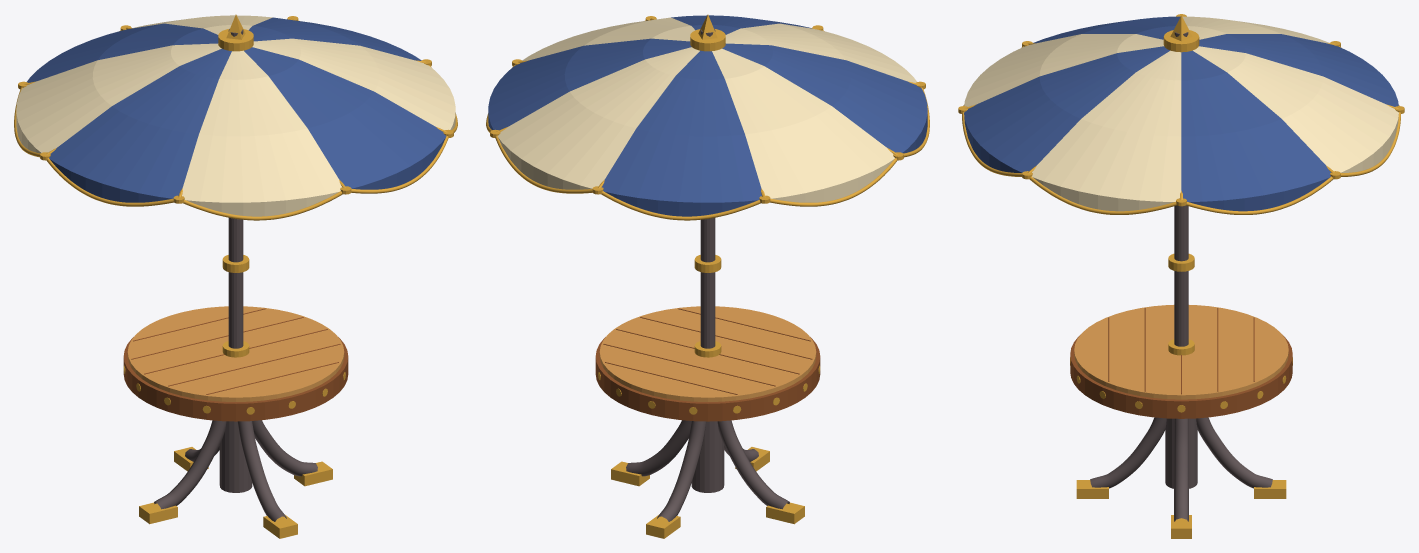
The model's file is cafe-parasol-table.glb.
3 views of the same model, side by side, from view 1: azimuth 30°, elevation 25°; view 2: azimuth 150°, elevation 25°; view 3: azimuth 270°, elevation 25° (orthographic).
Visible parts, largest first — view 1: Round oak tabletop, Ivory canopy panel.002, Blue canopy panel.002, Blue canopy panel.003, Ivory canopy panel.001, Ivory canopy panel.003, Table top dark rim, Blue canopy panel.001, Blue canopy panel, Parasol pole, Table center support, Curved iron pedestal foot.002 (+12 smaller); view 2: Round oak tabletop, Blue canopy panel.001, Ivory canopy panel.001, Ivory canopy panel, Blue canopy panel.002, Blue canopy panel, Table top dark rim, Ivory canopy panel.002, Ivory canopy panel.003, Parasol pole, Table center support, Curved iron pedestal foot.002 (+12 smaller); view 3: Round oak tabletop, Blue canopy panel, Ivory canopy panel.003, Blue canopy panel.003, Ivory canopy panel, Blue canopy panel.001, Ivory canopy panel.002, Table top dark rim, Parasol pole, Blue canopy panel.002, Ivory canopy panel.001, Curved iron pedestal foot (+10 smaller).
Boxes of the visible parts, x1=… form: Round oak tabletop: x1=127, y1=306, x2=344, y2=401; Ivory canopy panel.002: x1=182, y1=50, x2=341, y2=202; Blue canopy panel.002: x1=49, y1=48, x2=231, y2=198; Blue canopy panel.003: x1=244, y1=47, x2=446, y2=188; Ivory canopy panel.001: x1=16, y1=43, x2=221, y2=152; Ivory canopy panel.003: x1=252, y1=38, x2=455, y2=130; Table top dark rim: x1=123, y1=337, x2=348, y2=421; Blue canopy panel.001: x1=27, y1=23, x2=218, y2=82; Blue canopy panel: x1=248, y1=17, x2=421, y2=60; Parasol pole: x1=228, y1=29, x2=243, y2=348; Table center support: x1=219, y1=421, x2=252, y2=492; Curved iron pedestal foot.002: x1=154, y1=420, x2=226, y2=509; Round oak tabletop: x1=599, y1=306, x2=816, y2=401; Blue canopy panel.001: x1=602, y1=50, x2=761, y2=202; Ivory canopy panel.001: x1=712, y1=48, x2=894, y2=198; Ivory canopy panel: x1=497, y1=47, x2=699, y2=188; Blue canopy panel.002: x1=722, y1=43, x2=927, y2=152; Blue canopy panel: x1=488, y1=38, x2=691, y2=130; Table top dark rim: x1=595, y1=337, x2=820, y2=421; Ivory canopy panel.002: x1=725, y1=23, x2=916, y2=82; Ivory canopy panel.003: x1=522, y1=17, x2=695, y2=60; Parasol pole: x1=700, y1=29, x2=715, y2=348; Table center support: x1=691, y1=421, x2=724, y2=492; Curved iron pedestal foot.002: x1=717, y1=420, x2=789, y2=509; Round oak tabletop: x1=1074, y1=305, x2=1288, y2=399; Blue canopy panel: x1=1181, y1=50, x2=1330, y2=201; Ivory canopy panel.003: x1=1032, y1=50, x2=1181, y2=201; Blue canopy panel.003: x1=964, y1=46, x2=1169, y2=172; Ivory canopy panel: x1=1193, y1=46, x2=1398, y2=172; Blue canopy panel.001: x1=1199, y1=34, x2=1398, y2=106; Ivory canopy panel.002: x1=964, y1=34, x2=1163, y2=106; Table top dark rim: x1=1070, y1=334, x2=1292, y2=418; Parasol pole: x1=1174, y1=32, x2=1188, y2=346; Blue canopy panel.002: x1=1033, y1=16, x2=1180, y2=43; Ivory canopy panel.001: x1=1182, y1=16, x2=1329, y2=43; Curved iron pedestal foot: x1=1174, y1=418, x2=1188, y2=521.
Bounding box in the file's own units: 2.77 × 3.28 × 2.77.
